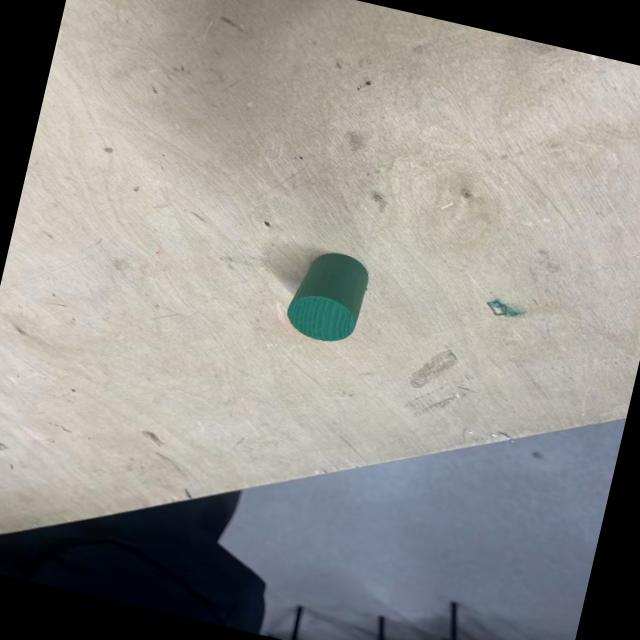green_cylinder: (280, 242, 375, 350)
